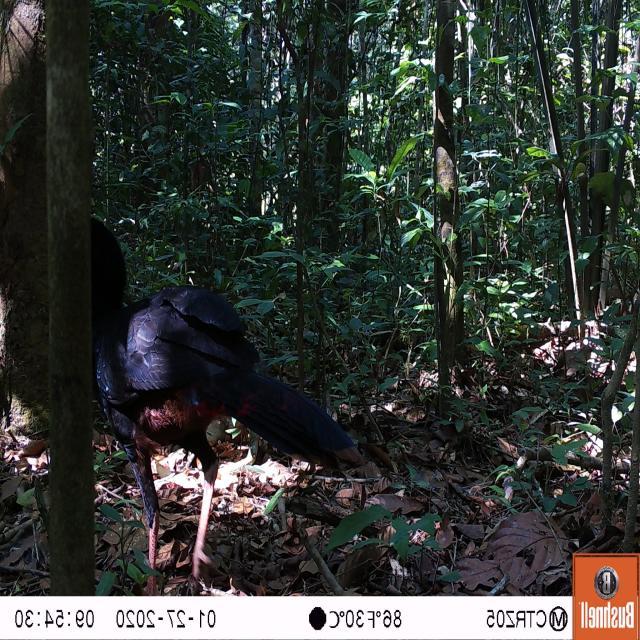Salvins Curassow: (88, 182, 366, 596)
